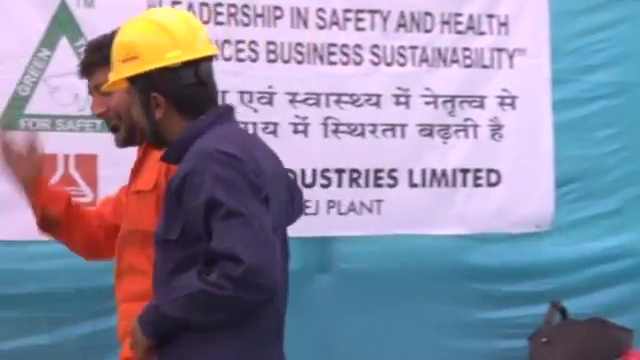helmet: (100, 9, 219, 92)
helmet_off: (78, 28, 144, 150)
helmet_on: (100, 7, 234, 159)
person: (97, 7, 300, 360), (1, 29, 162, 360)
